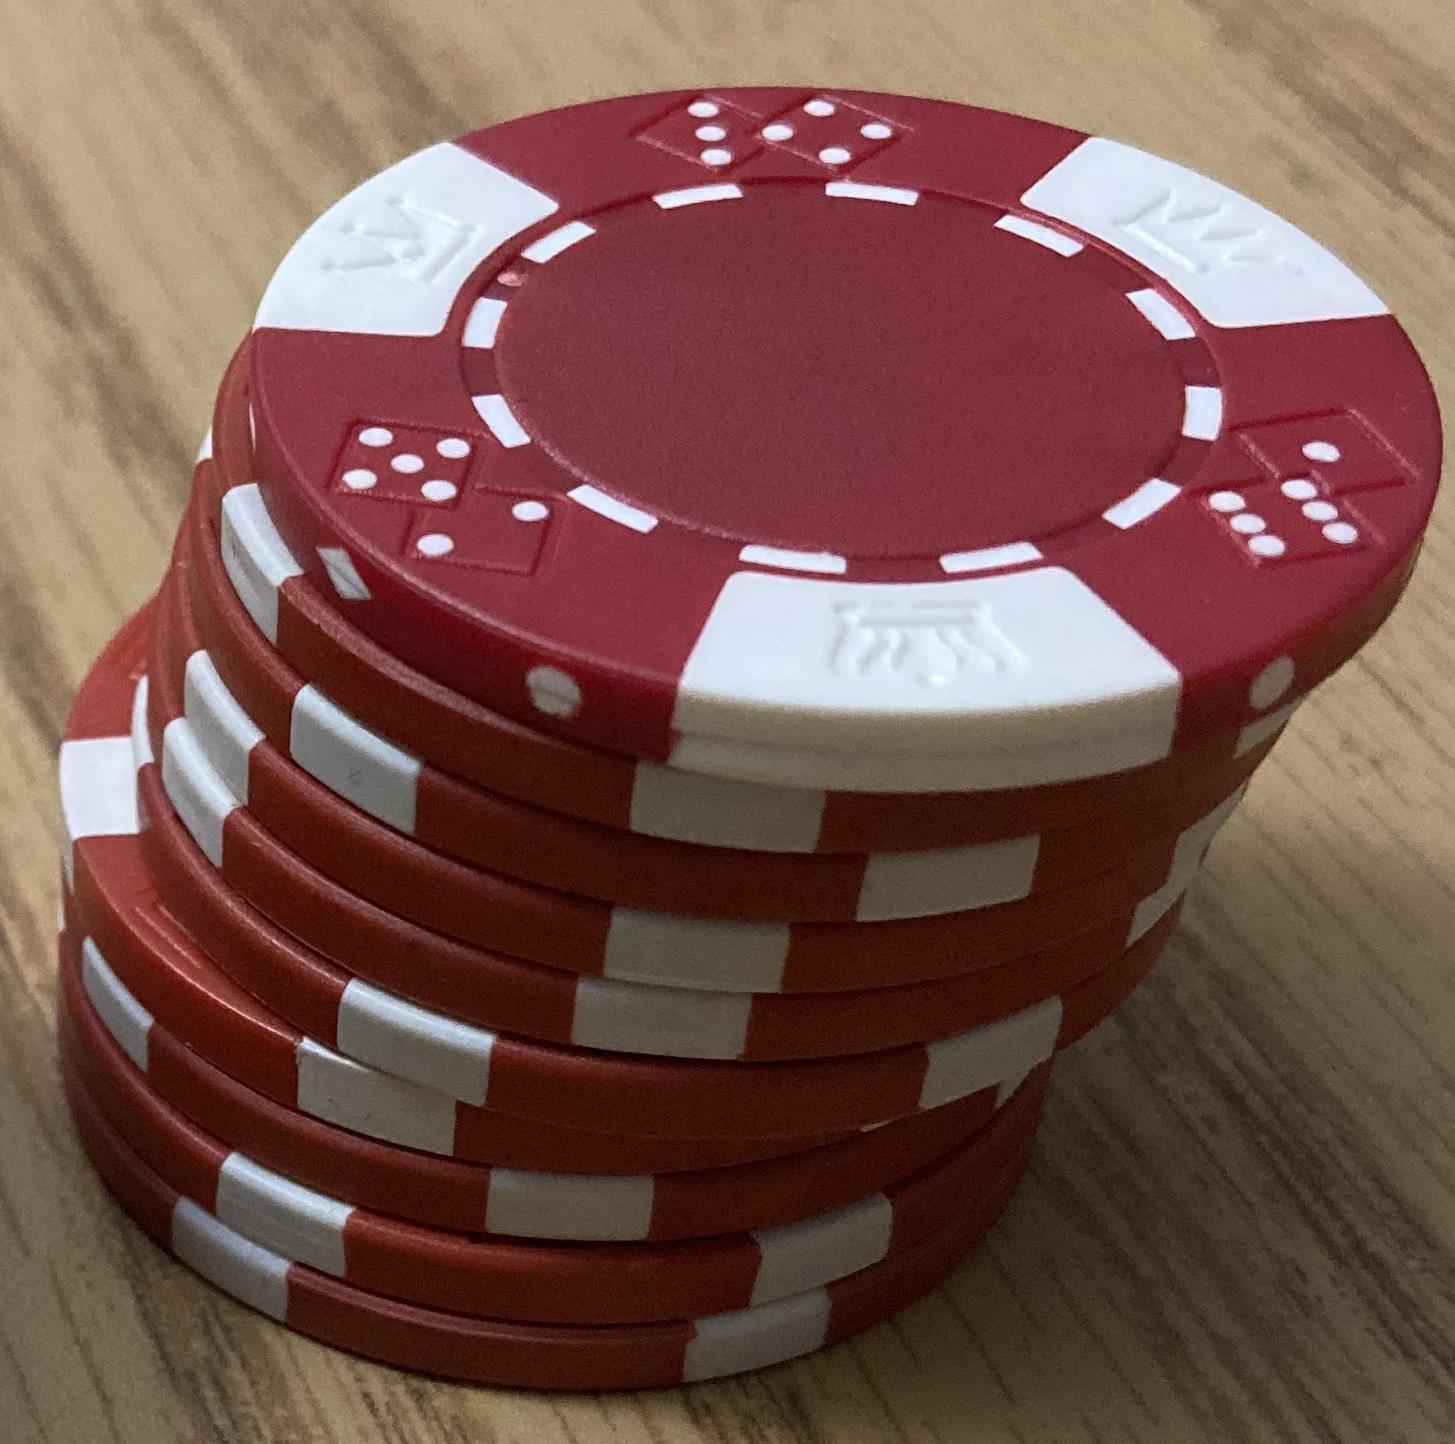Chip: (1, 1, 1455, 1444)
